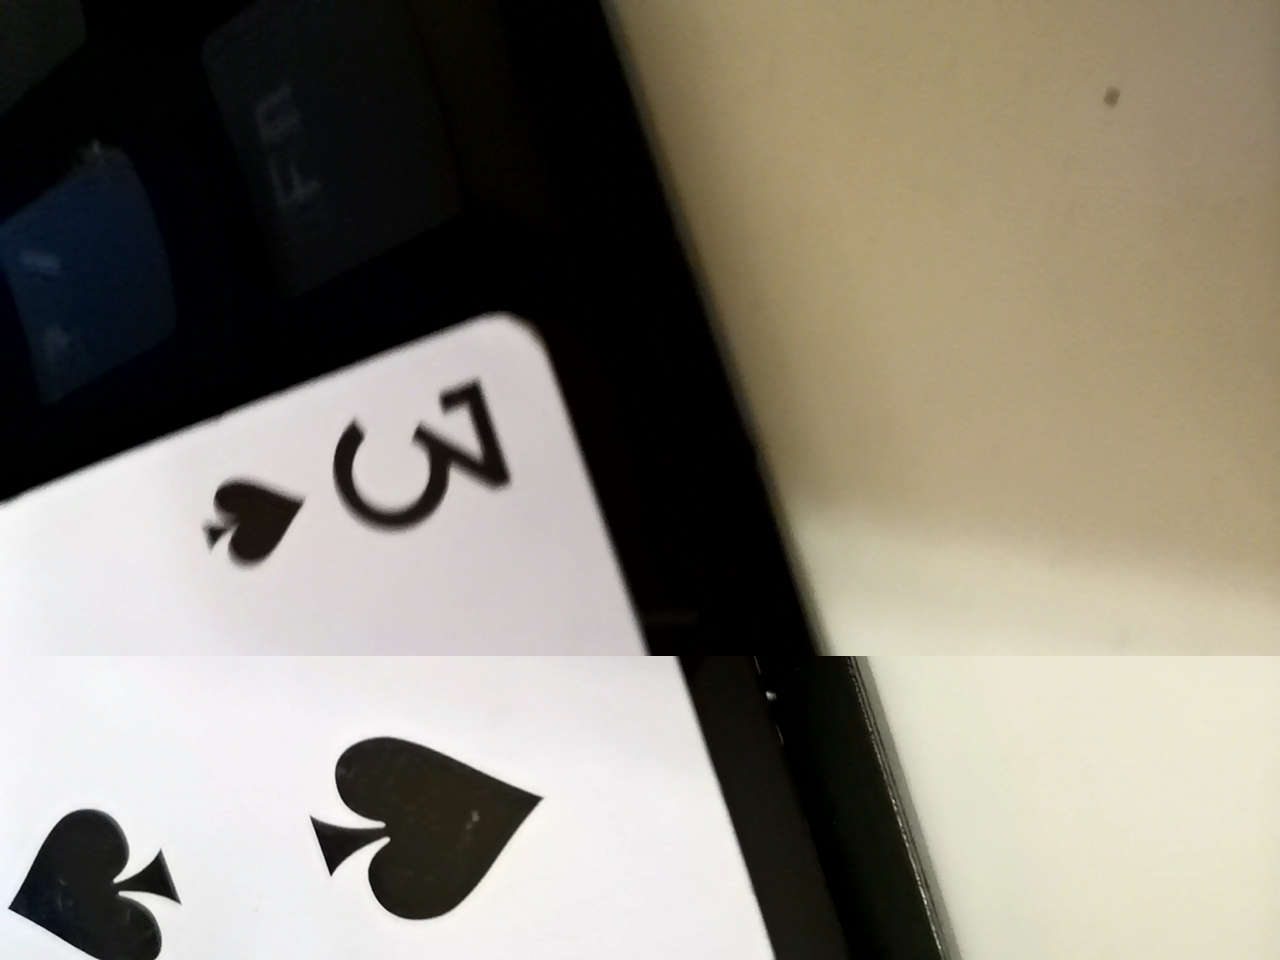ht 3: (7, 323, 818, 958)
